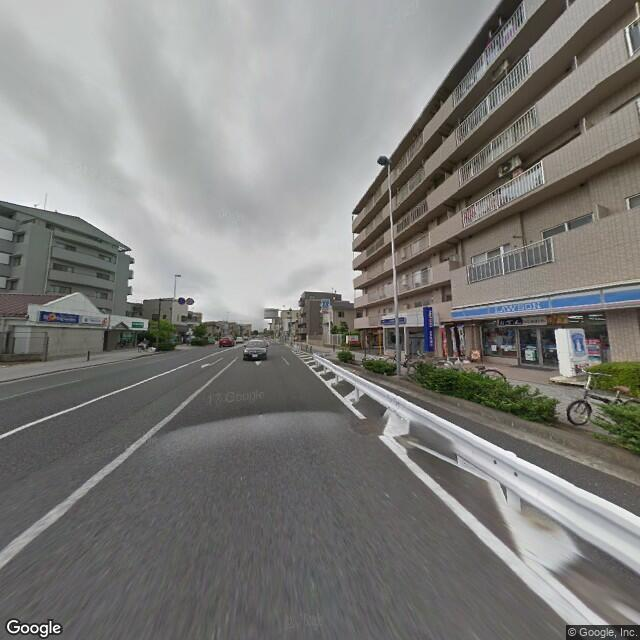lawson: (450, 279, 637, 326), (566, 328, 585, 358)
